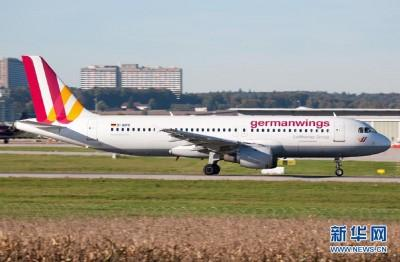airplane: (2, 54, 396, 176)
